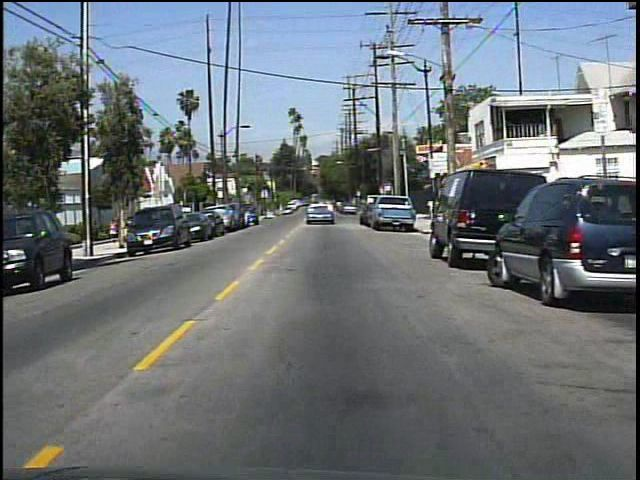person: (422, 193, 439, 222)
